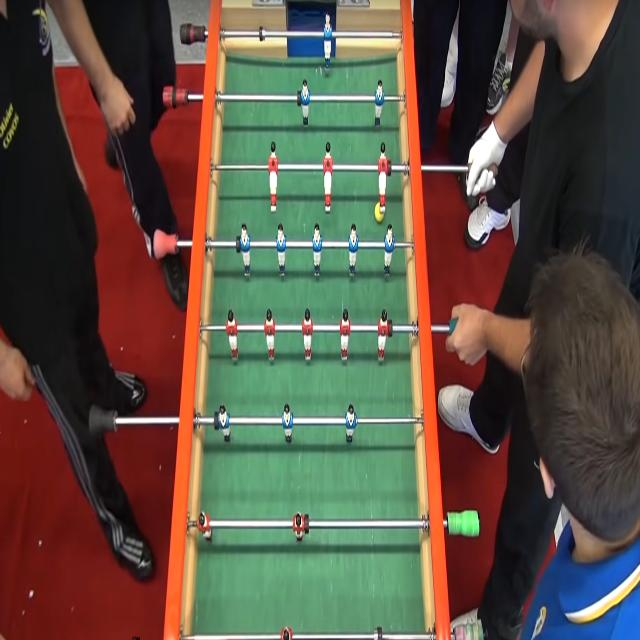ball: (370, 198, 389, 222)
